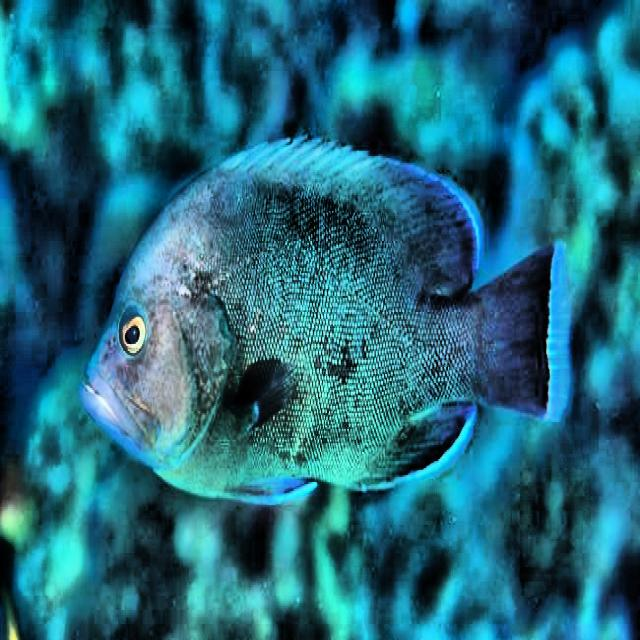fish: (83, 134, 566, 505)
